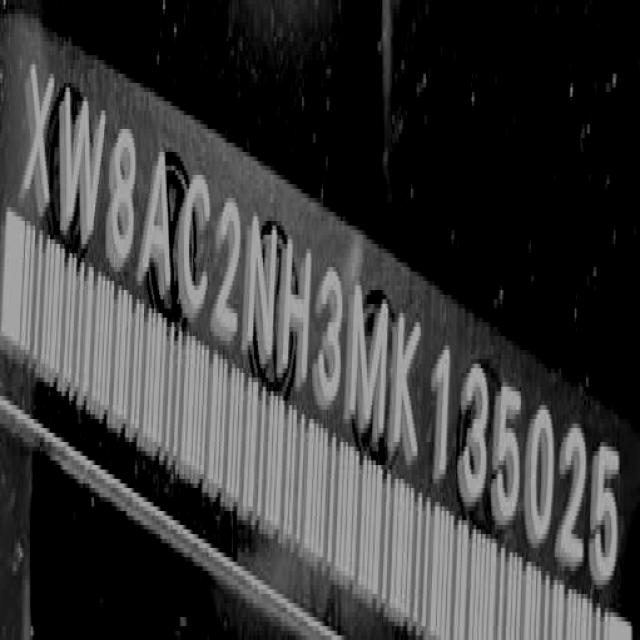0: (526, 402, 554, 562)
1: (431, 340, 451, 498)
2: (212, 193, 244, 355), (558, 416, 589, 583)
3: (314, 261, 345, 417), (462, 353, 489, 513)
5: (594, 433, 624, 598), (494, 379, 524, 540)
8: (109, 123, 139, 281)
A: (140, 144, 179, 308)
C: (178, 168, 214, 329)
H: (278, 227, 314, 395), (392, 305, 422, 481)
M: (347, 266, 386, 447)
N: (244, 219, 280, 380)
W: (56, 81, 106, 261)
X: (19, 60, 57, 235)
